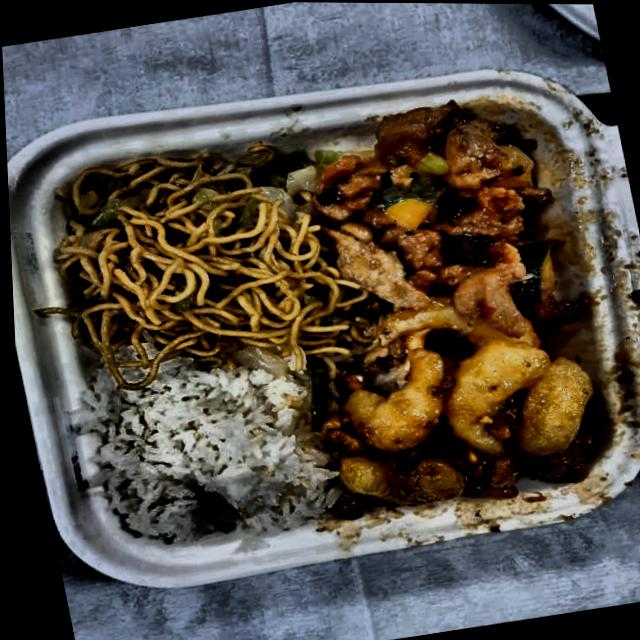Food: (25, 125, 351, 390), (282, 279, 625, 526), (298, 77, 587, 331), (56, 332, 348, 568)
